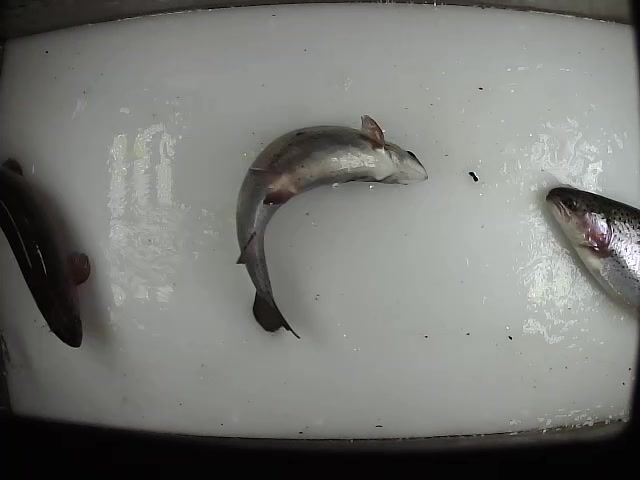fish: (232, 114, 430, 341), (1, 155, 90, 350), (542, 187, 640, 310)
